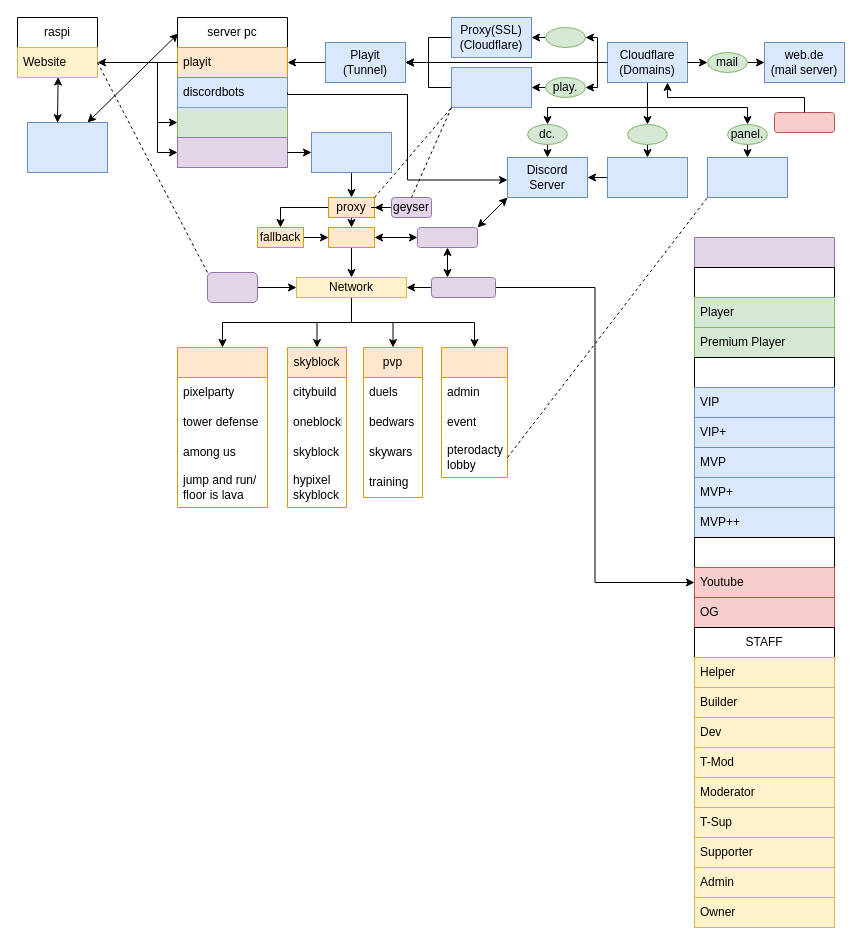
The diagram is 862 pixels wide and 945 high, and some of its shapes have lost their labels. Each missing label, with the box of its shape:
Community: (694, 356, 834, 538)
custom: (440, 346, 508, 478)
discordsrv: (416, 226, 478, 248)
lobby: (328, 226, 374, 248)
luckperms: (430, 276, 496, 298)
minigames: (176, 346, 268, 508)
polocloud: (176, 136, 288, 168)
Polocloud (Cloudsystem): (310, 132, 392, 172)
Pterodactyl (SMP Server): (706, 156, 788, 198)
Ranks: (694, 236, 834, 928)
rapalle.net: (774, 112, 834, 132)
Script severmanager python: (26, 122, 108, 172)
Special: (694, 536, 834, 628)
Standart: (694, 266, 834, 358)
store.: (626, 124, 668, 144)
TCPShield (MC Firewall): (450, 66, 532, 108)
teamspeak server: (176, 106, 288, 138)
Tebex (Shop): (606, 156, 688, 198)
votes votifier: (206, 272, 258, 302)
www.: (544, 26, 586, 48)
